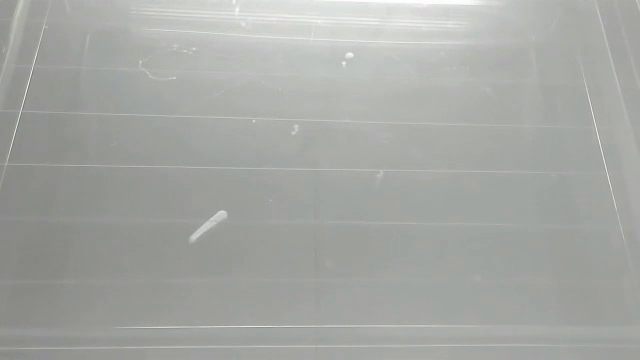alpha: (185, 209, 235, 247), (338, 48, 361, 70), (469, 270, 491, 288)
